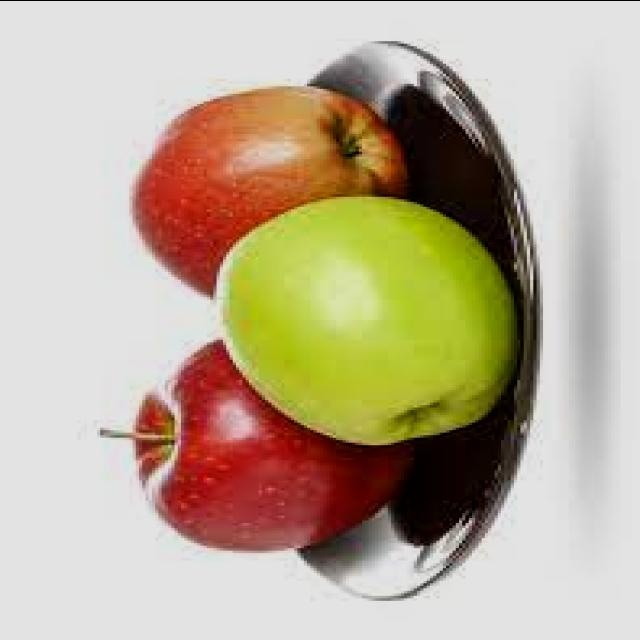agrume: (163, 188, 533, 456), (72, 320, 436, 582), (80, 41, 410, 327)
